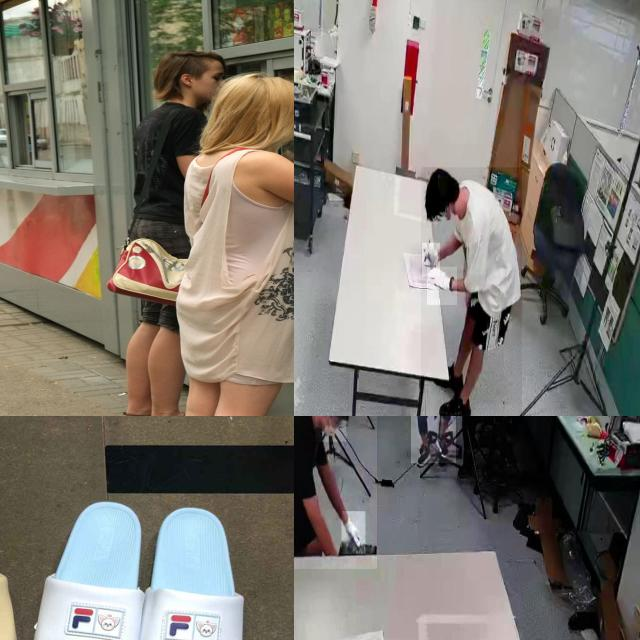Sandals: (28, 474, 268, 640)
face_mask: (315, 416, 346, 442)
hand_glove: (427, 267, 457, 305), (342, 511, 366, 555), (422, 242, 440, 276)
head_nohelmet: (424, 168, 438, 222)
person: (421, 167, 522, 416), (294, 416, 377, 570), (411, 416, 456, 464)
shoes: (435, 388, 472, 416), (434, 357, 464, 387), (434, 428, 450, 462), (415, 444, 435, 470)
